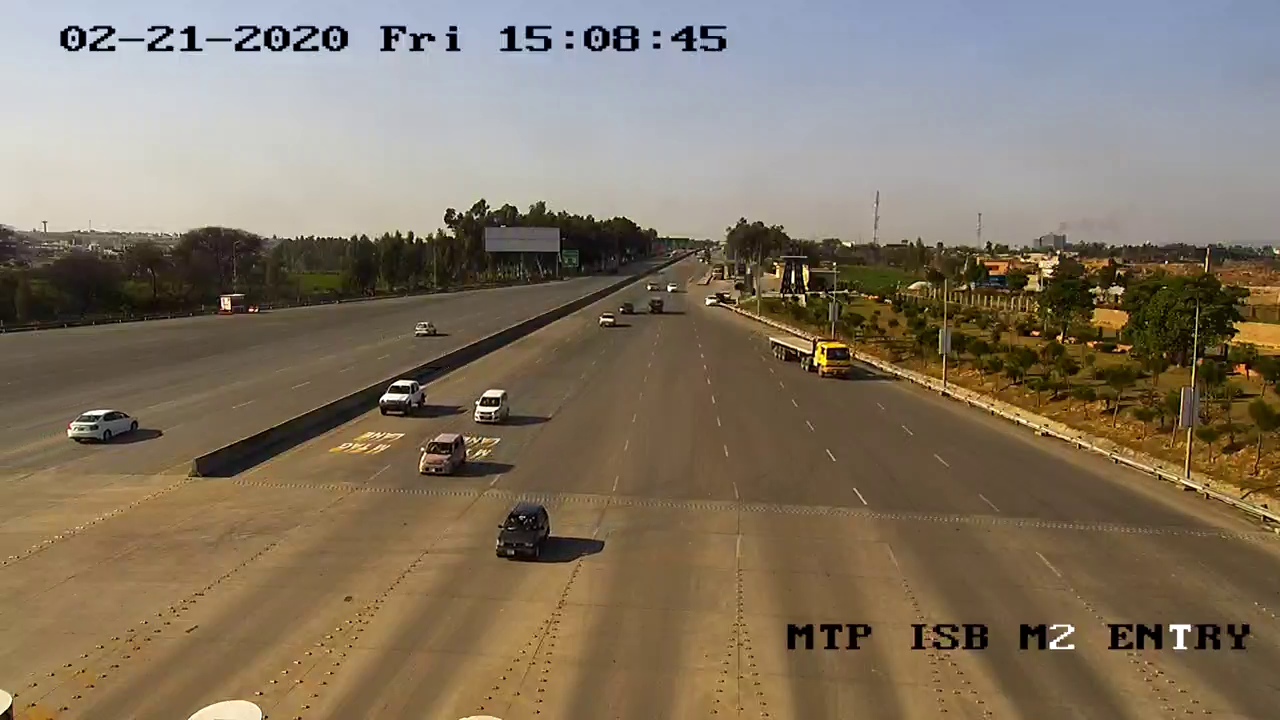f1: (482, 497, 563, 569), (408, 428, 474, 486), (371, 364, 432, 421), (467, 384, 514, 437)
f6: (754, 318, 860, 392)
